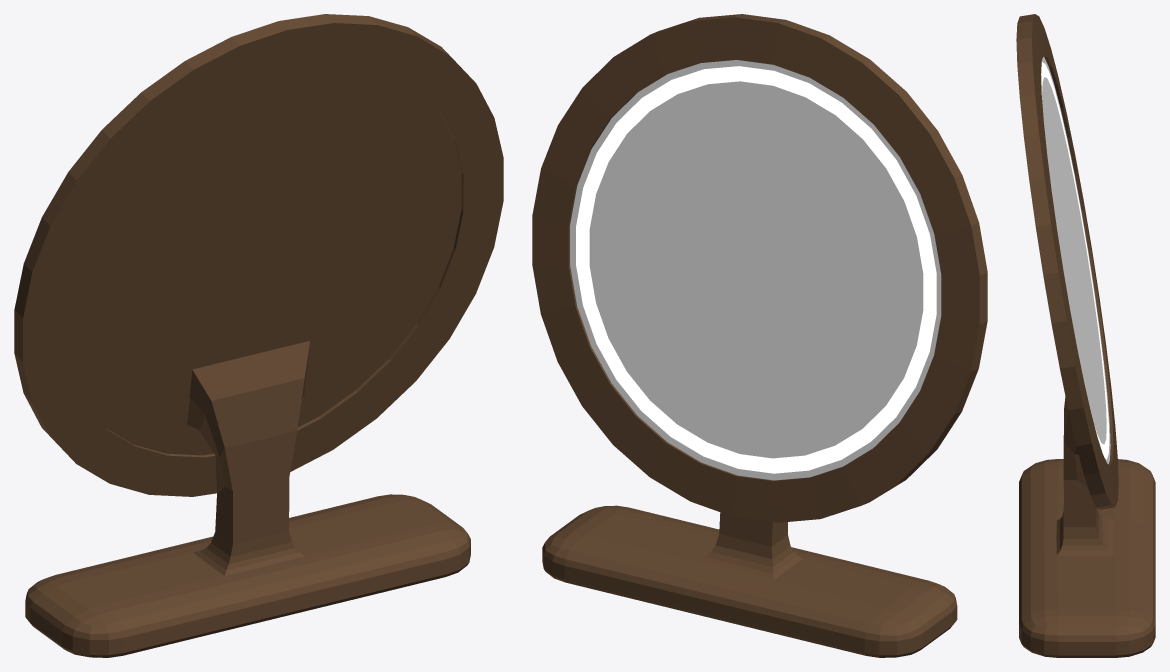
The model's file is mirror.glb.
3 views of the same model, side by side, from view 1: azimuth 30°, elevation 25°; view 2: azimuth 150°, elevation 25°; view 3: azimuth 270°, elevation 25° (orthographic). The views are drawn at different scales.
Parts seen in each view (by area): view 1: Cylinder, Cylinder.001, Roundcube; view 2: Cylinder, Cylinder.001, Roundcube; view 3: Roundcube, Cylinder.001, Cylinder.
Boxes of the visible parts, x1,y1,x2,y2 form: Cylinder: (63, 62, 461, 455); Cylinder.001: (14, 14, 503, 496); Roundcube: (25, 341, 470, 657); Cylinder: (570, 60, 941, 480); Cylinder.001: (532, 14, 987, 522); Roundcube: (542, 505, 957, 657); Roundcube: (1019, 396, 1155, 657); Cylinder.001: (1016, 14, 1118, 509); Cylinder: (1041, 57, 1110, 464).
Bounding box in the file's own units: 2.2 × 2.61 × 0.6119.
